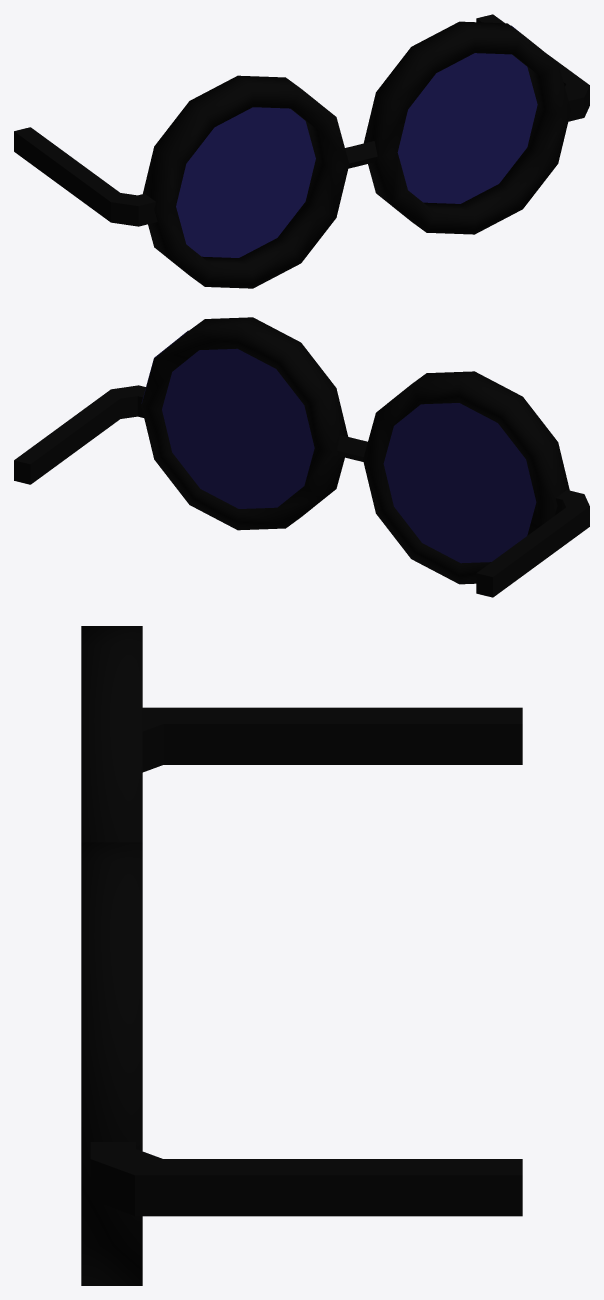
Rendered from Glasses.fbx.
3 renders of one model, top to bottom at view 1: azimuth 30°, elevation 25°; view 2: azimuth 150°, elevation 25°; view 3: azimuth 270°, elevation 25°, orthographic. The views are drawn at different scales.
Parts seen in each view (by area): view 1: Cube; view 2: Cube; view 3: Cube.
Part boxes in pixels (box(x1,y1,x2,y2)): Cube: box(14, 14, 589, 288); Cube: box(14, 317, 589, 597); Cube: box(81, 626, 522, 1285).
Size of the model in its own units: 67.29 by 27.08 by 26.85.
